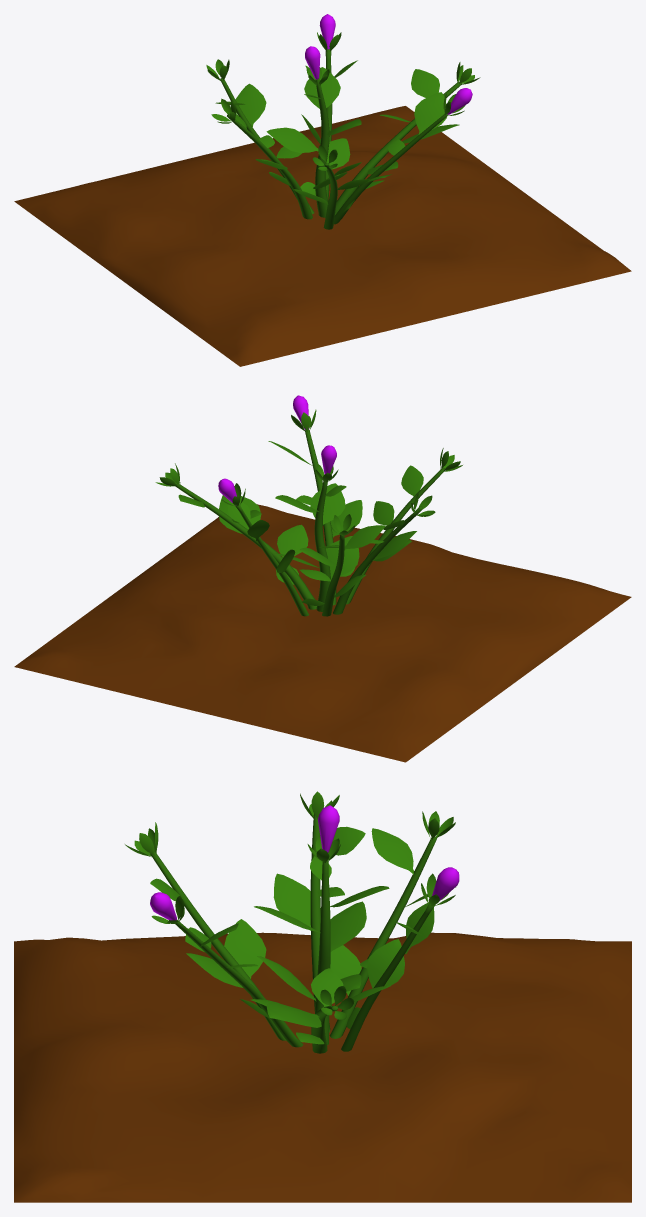
Rendered from petunia-p2-leaf.glb.
The picture shows the model from 3 angles, top to bottom: view 1: azimuth 30°, elevation 25°; view 2: azimuth 150°, elevation 25°; view 3: azimuth 270°, elevation 25°; orthographic projection. The views are drawn at different scales.
Visible parts, largest first — view 1: 2_nft_out_of_bloom; view 2: 2_nft_out_of_bloom; view 3: 2_nft_out_of_bloom.
Boxes of the visible parts, x1=… form: 2_nft_out_of_bloom: x1=14, y1=14, x2=631, y2=366; 2_nft_out_of_bloom: x1=14, y1=395, x2=631, y2=762; 2_nft_out_of_bloom: x1=14, y1=791, x2=631, y2=1202.
Bounding box in the file's own units: 0.7 × 0.3252 × 0.7.
